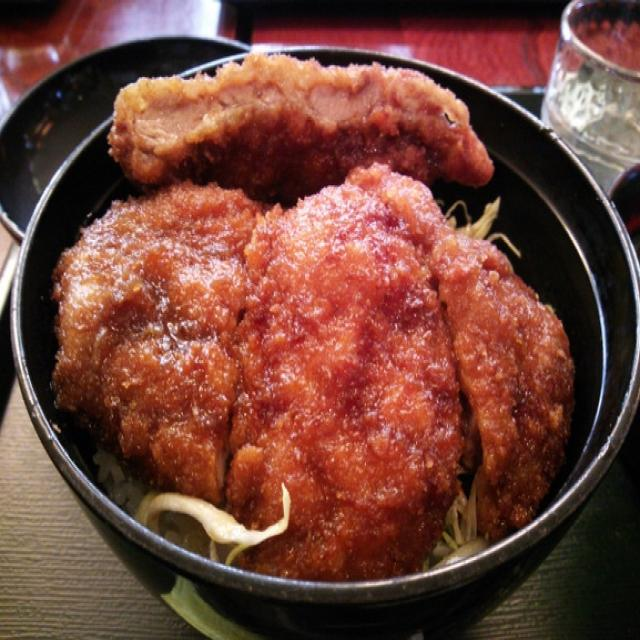牛肉菜式: (56, 47, 601, 587)
